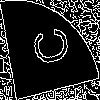C: (25, 25, 71, 70)
